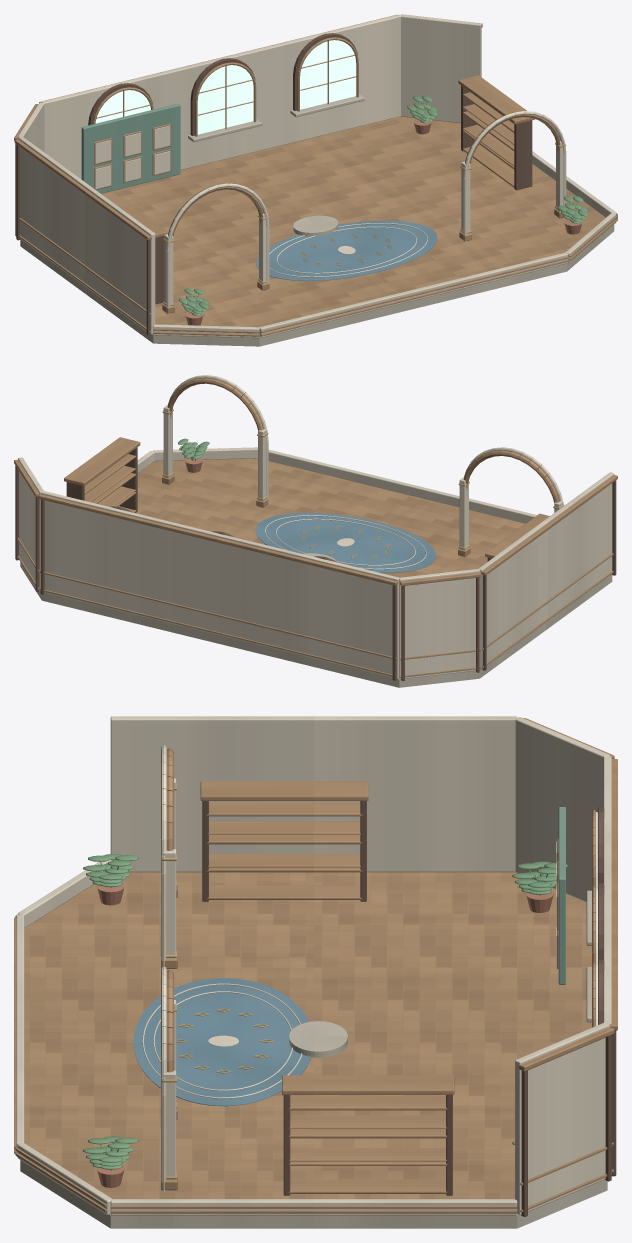
Rendered from museum-interior.glb.
3 renders of one model, top to bottom at view 1: azimuth 30°, elevation 25°; view 2: azimuth 150°, elevation 25°; view 3: azimuth 270°, elevation 25°, orthographic. The views are drawn at different scales.
Visible parts, largest first — view 1: Forest hamlet; view 2: Forest hamlet; view 3: Forest hamlet.
Boxes of the visible parts, x1=… form: Forest hamlet: x1=14, y1=14, x2=617, y2=346; Forest hamlet: x1=14, y1=375, x2=617, y2=687; Forest hamlet: x1=14, y1=716, x2=617, y2=1228.
Size of the model in its own units: 18.38 by 4.7 by 13.37.
Materials: 15 (15 with a texture image).
